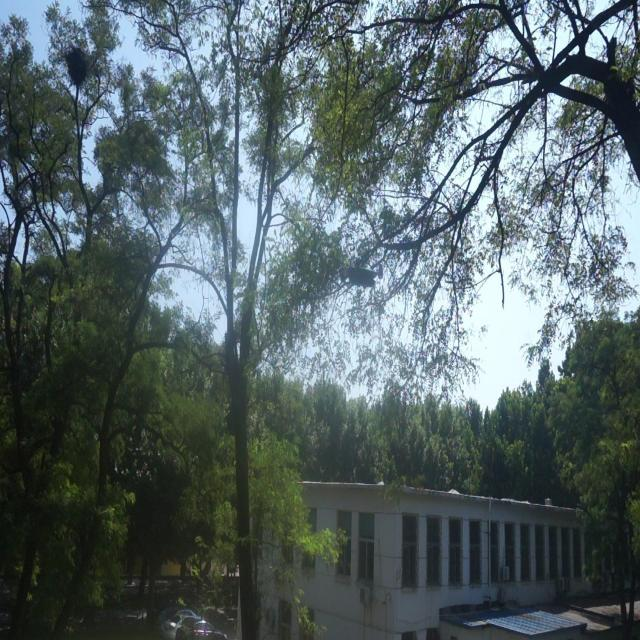UAV: (340, 259, 383, 287)
